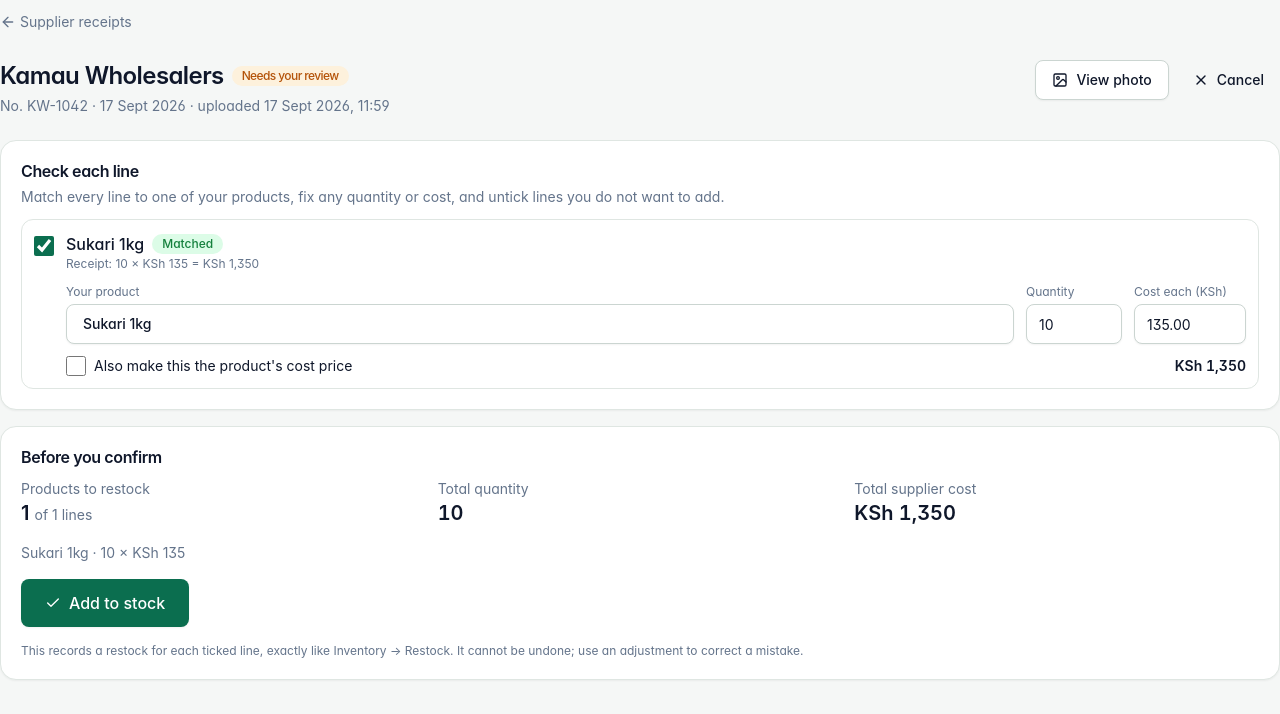
Test: ReceiptReviewPage › surfaces a confirmation failure and keeps the review editable
Click the button "Add to stock" at (105, 603), box [21,579,189,627]
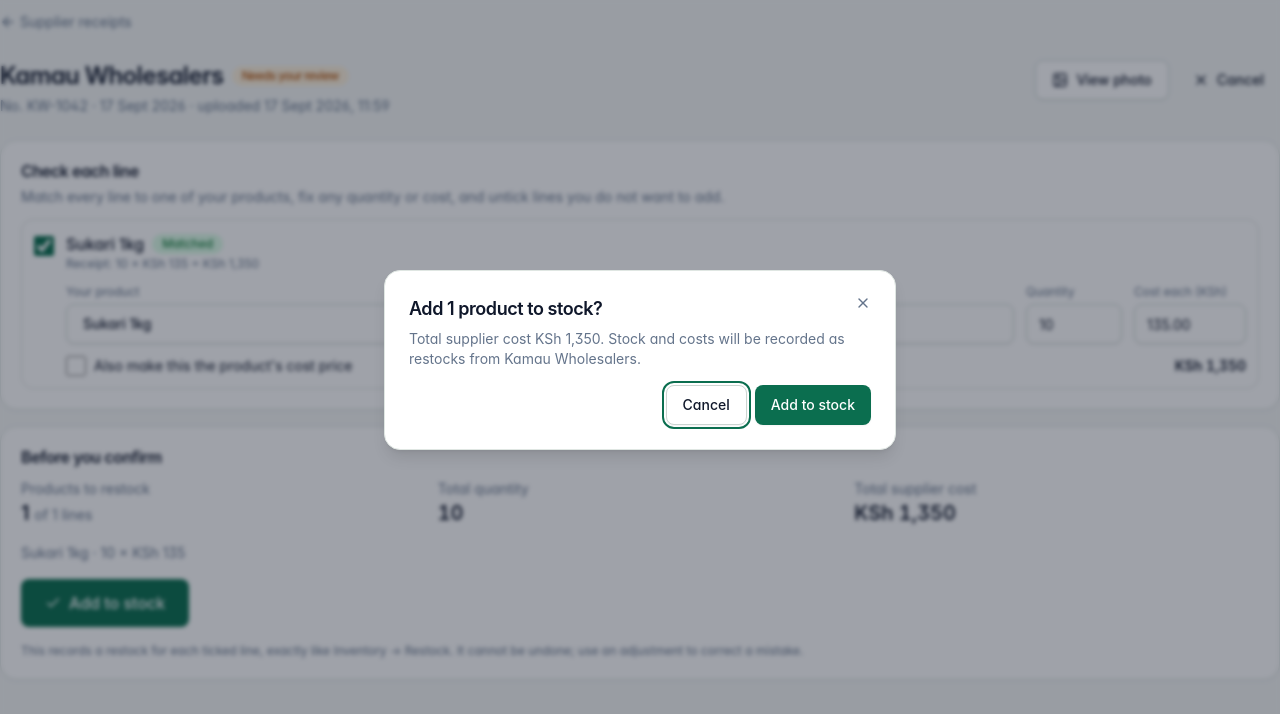
Click the button "Add to stock" at (813, 405), box [755,385,871,425]
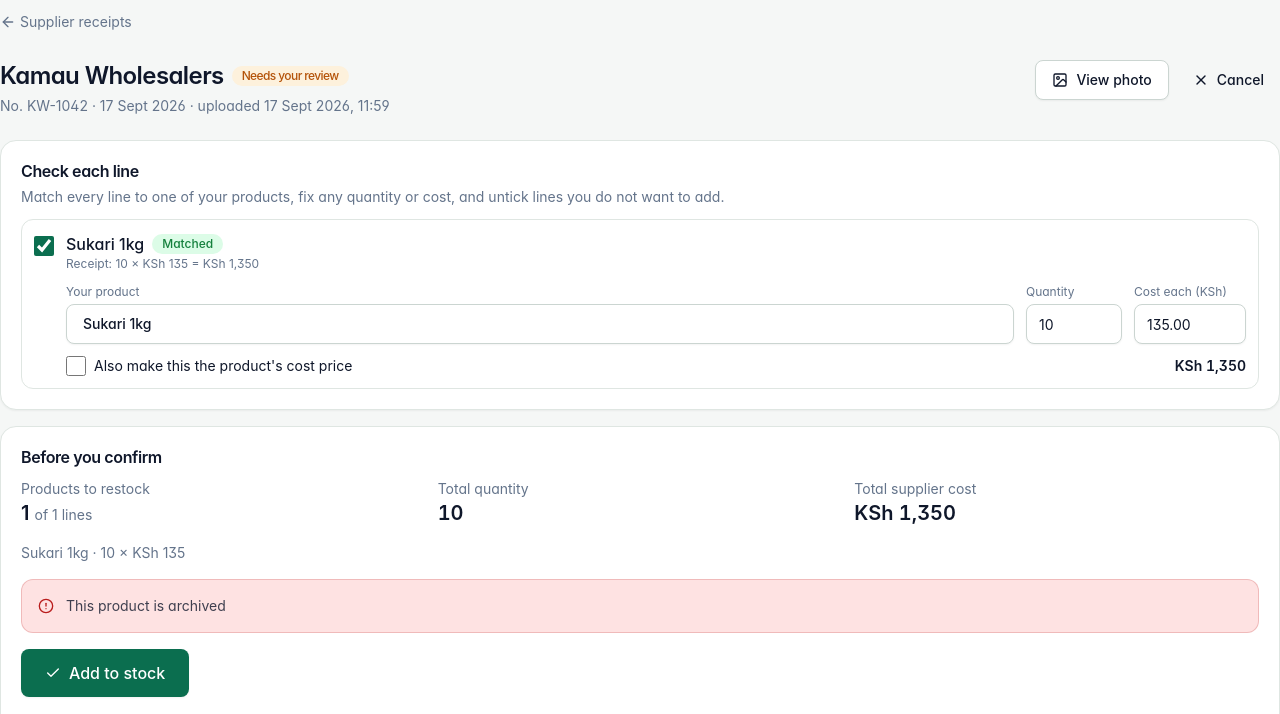
Check: the button "Add to stock" is enabled, box [21,649,189,697]
Check: the message reads "This product is archived", box [66,597,226,614]
